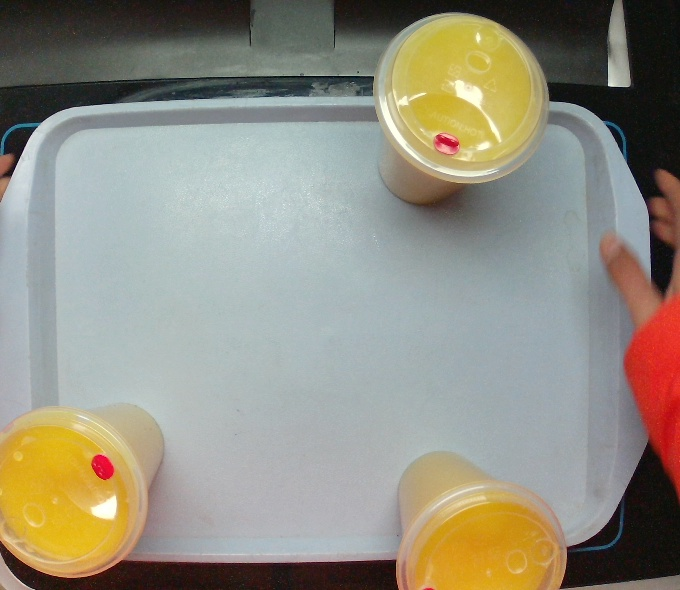wcq-ChengZhi: (369, 8, 551, 208), (1, 398, 167, 580), (393, 449, 569, 590)
